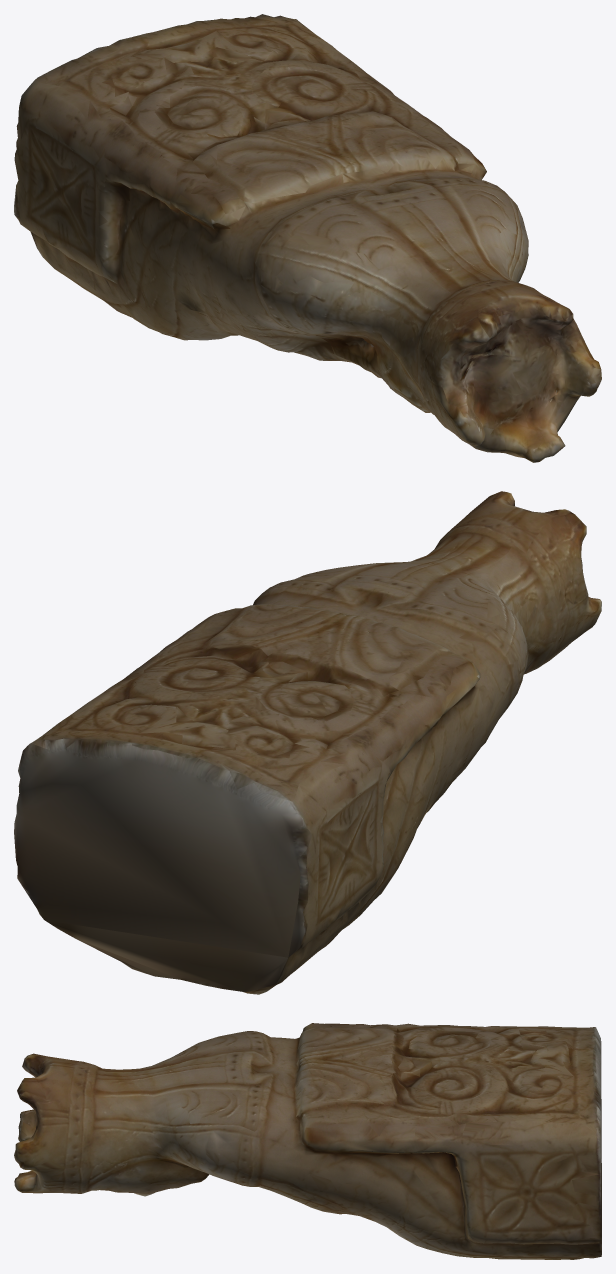
File: queen.glb
The picture shows the model from 3 angles, top to bottom: view 1: azimuth 30°, elevation 25°; view 2: azimuth 150°, elevation 25°; view 3: azimuth 270°, elevation 25°; orthographic projection. The views are drawn at different scales.
Visible parts, largest first — view 1: queen; view 2: queen; view 3: queen.
Boxes of the visible parts, bbox=[...] form: queen: bbox=[14, 14, 601, 462]; queen: bbox=[14, 491, 601, 994]; queen: bbox=[14, 1023, 601, 1259].
Bounding box in the file's own units: 1.78 × 1.36 × 3.96.
1 material, 1 textured.
